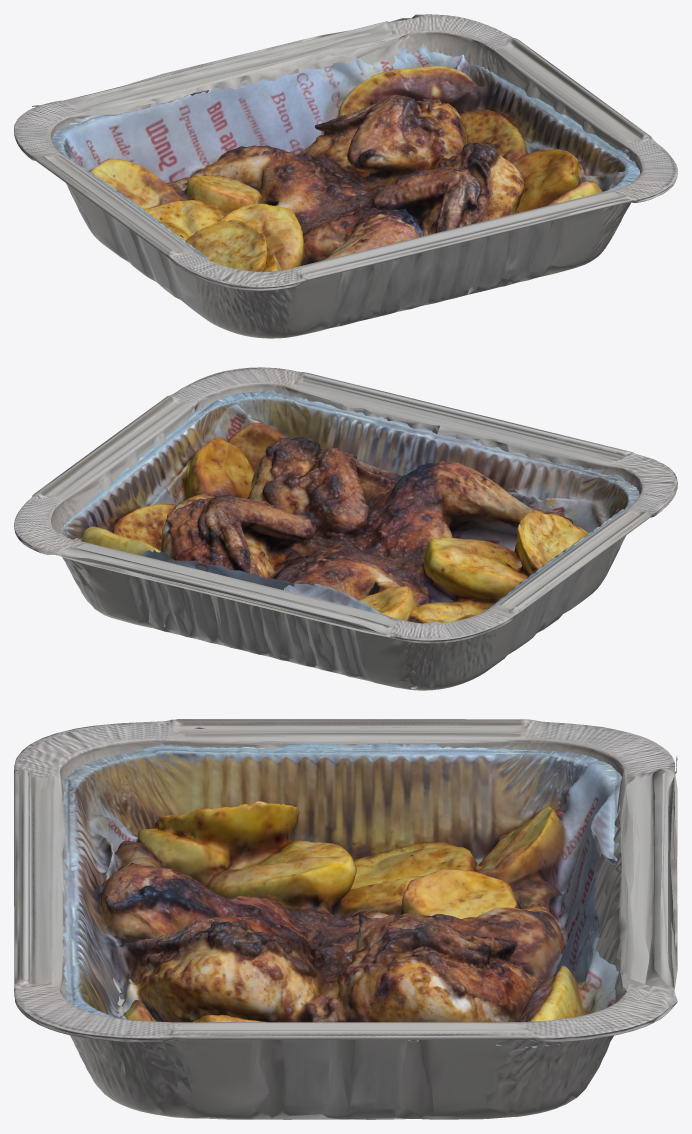
File: whole.chicken.glb
The picture shows the model from 3 angles, top to bottom: view 1: azimuth 30°, elevation 25°; view 2: azimuth 150°, elevation 25°; view 3: azimuth 270°, elevation 25°; orthographic projection. The views are drawn at different scales.
Parts seen in each view (by area): view 1: 3DModel, node_0; view 2: 3DModel, node_0; view 3: 3DModel, node_0.
Part boxes in pixels (x1,y1,x2,y2): 3DModel: [52, 46, 640, 271]; node_0: [14, 14, 677, 338]; 3DModel: [59, 390, 639, 623]; node_0: [14, 367, 677, 690]; 3DModel: [61, 727, 621, 1047]; node_0: [14, 719, 677, 1119].
Size of the model in its own units: 0.3483 by 0.0694 by 0.3078.
Materials: 2 (2 with a texture image).
